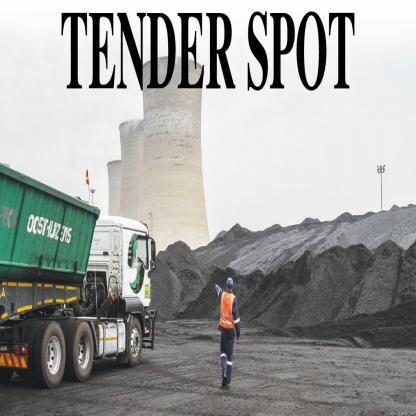dump_truck: (4, 151, 161, 384)
person: (209, 272, 251, 389)
